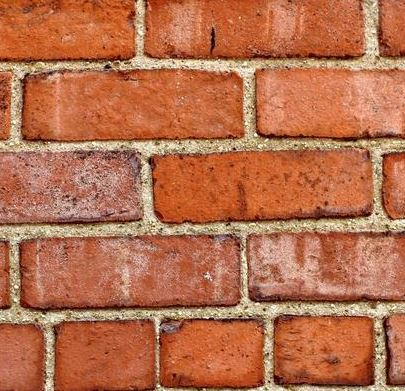brick: (18, 235, 243, 308), (21, 70, 247, 141), (147, 151, 375, 219), (142, 1, 367, 60), (1, 147, 143, 227), (245, 231, 405, 301), (252, 66, 405, 138), (270, 311, 378, 389), (1, 1, 136, 62), (159, 314, 267, 389), (52, 319, 158, 388)
